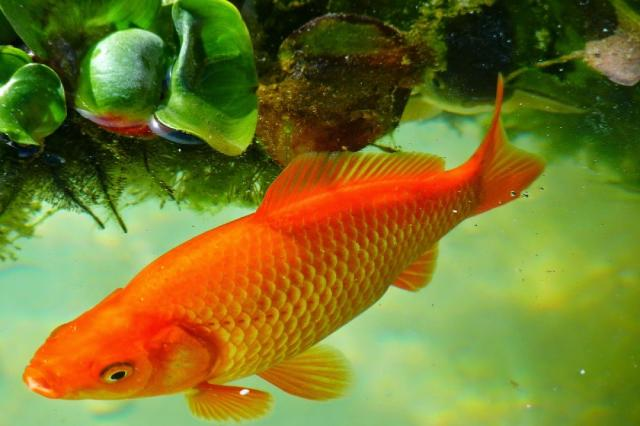Mulut: (10, 358, 62, 414)
Sirip Anal: (394, 234, 450, 308)
Sirip Dada: (184, 375, 276, 426)
Sirip Ekor: (460, 63, 556, 227)
Sirip Perut: (262, 342, 362, 406)
Sirip Punggung: (250, 140, 448, 210)
